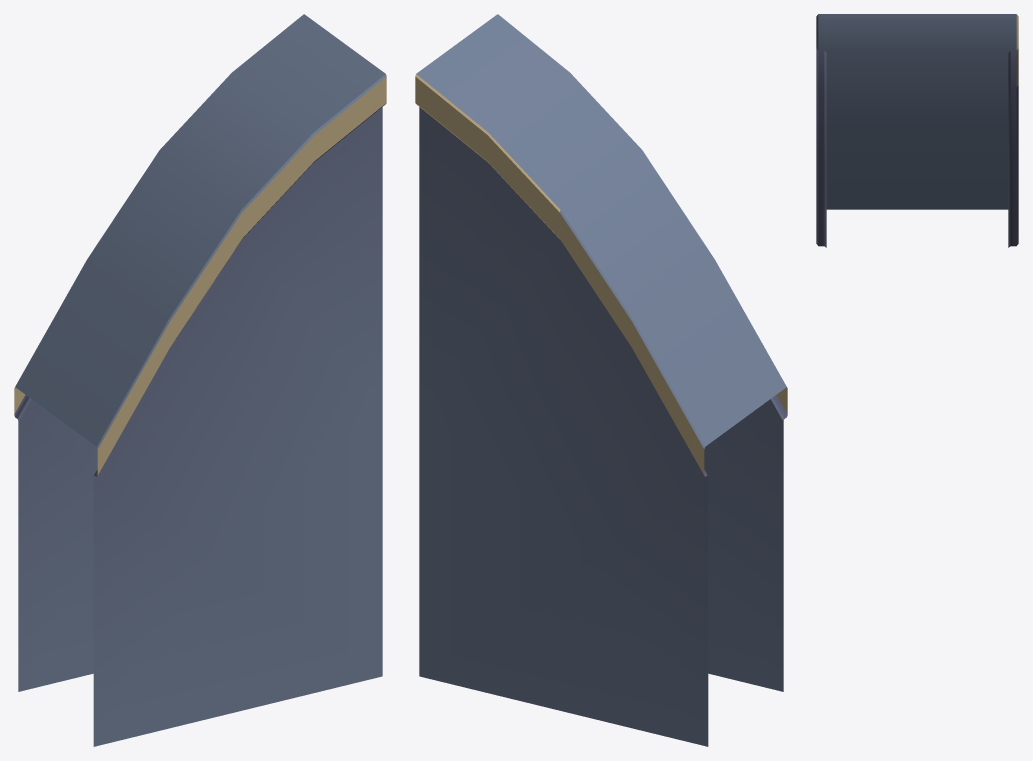
Rendered from BoatFence_slope_downwards.fbx.
3 renders of one model, left to right at view 1: azimuth 30°, elevation 25°; view 2: azimuth 150°, elevation 25°; view 3: azimuth 270°, elevation 25°, orthographic. The views are drawn at different scales.
Visible parts, largest first — view 1: Board_fence_up; view 2: Board_fence_up; view 3: Board_fence_up.
Part boxes in pixels (x1,y1,x2,y2): Board_fence_up: (14,14,386,746); Board_fence_up: (415,14,787,746); Board_fence_up: (816,14,1018,247).
Size of the model in its own units: 200 by 400 by 100.
